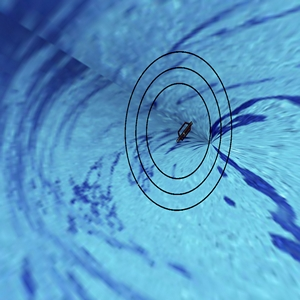circle: (112, 41, 248, 214)
submarine: (173, 114, 199, 152)
